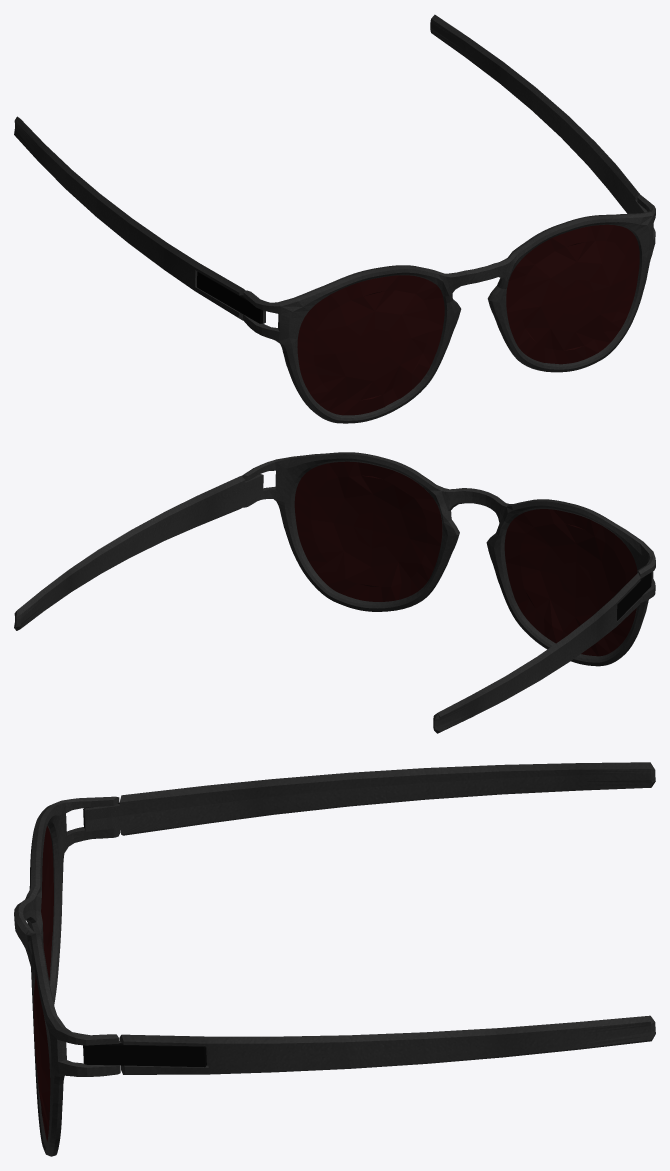
Rendered from mhw_punkduck_glasses_modern_form.glb.
The picture shows the model from 3 angles, top to bottom: view 1: azimuth 30°, elevation 25°; view 2: azimuth 150°, elevation 25°; view 3: azimuth 270°, elevation 25°; orthographic projection. The views are drawn at different scales.
Visible parts, largest first — view 1: mhw_punkduck_glasses_modern_form; view 2: mhw_punkduck_glasses_modern_form; view 3: mhw_punkduck_glasses_modern_form.
Part boxes in pixels (box(x1,y1,x2,y2)): mhw_punkduck_glasses_modern_form: box(14, 14, 655, 423); mhw_punkduck_glasses_modern_form: box(14, 452, 655, 733); mhw_punkduck_glasses_modern_form: box(14, 762, 655, 1156).
Bounding box in the file's own units: 0.1587 × 0.0525 × 0.1604.
1 material, 1 textured.
